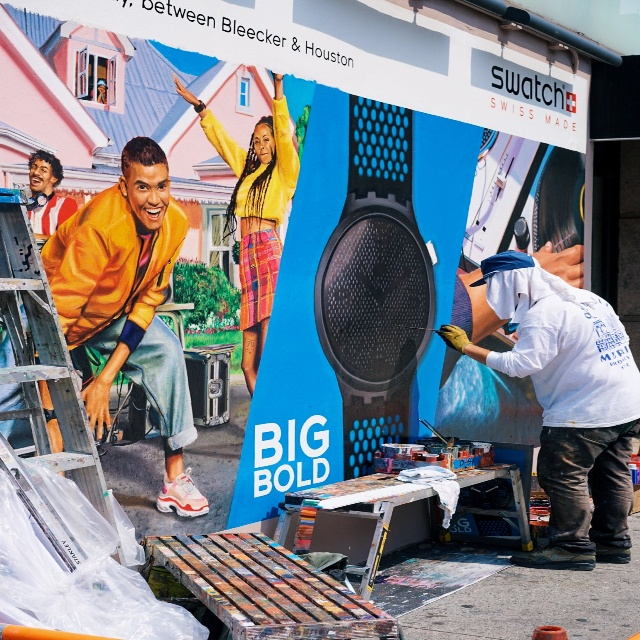Guantes: (435, 323, 473, 358)
Sin_guantes: (75, 367, 120, 439), (166, 69, 214, 112)
